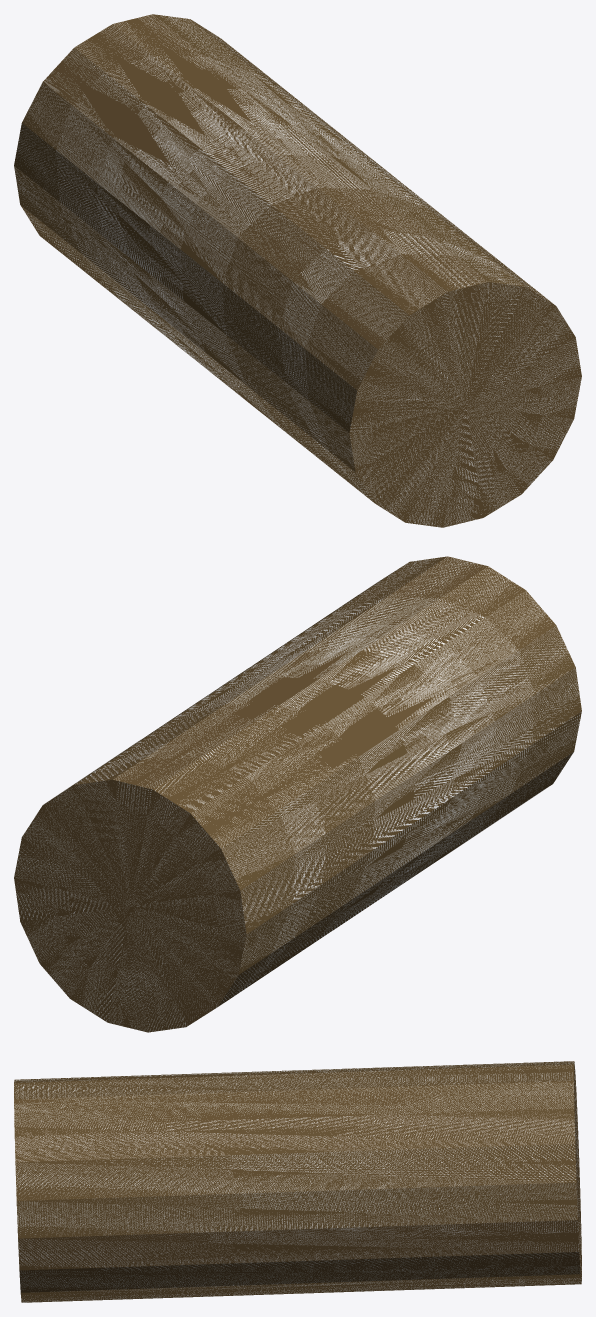
Rendered from original-74.obj.
The picture shows the model from 3 angles, top to bottom: view 1: azimuth 30°, elevation 25°; view 2: azimuth 150°, elevation 25°; view 3: azimuth 270°, elevation 25°; orthographic projection. The views are drawn at different scales.
Visible parts, largest first — view 1: obj_06_1/obj_06/mesh93/mesh93-geometry#mesh93-geometry; view 2: obj_06_1/obj_06/mesh93/mesh93-geometry#mesh93-geometry; view 3: obj_06_1/obj_06/mesh93/mesh93-geometry#mesh93-geometry.
Part boxes in pixels (left/top/right/bottom): obj_06_1/obj_06/mesh93/mesh93-geometry#mesh93-geometry: left=14, top=14, right=581, bottom=527; obj_06_1/obj_06/mesh93/mesh93-geometry#mesh93-geometry: left=14, top=556, right=581, bottom=1032; obj_06_1/obj_06/mesh93/mesh93-geometry#mesh93-geometry: left=14, top=1061, right=581, bottom=1302.
Bounding box in the file's own units: 0.0142 × 0.0152 × 0.0359.
